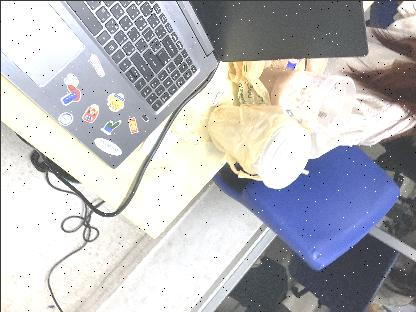Others: (210, 105, 310, 188), (262, 68, 360, 136), (208, 104, 286, 182), (257, 126, 311, 192), (230, 58, 288, 108), (286, 104, 354, 146), (138, 123, 178, 161), (173, 112, 201, 144), (274, 158, 310, 174), (296, 86, 340, 98)
